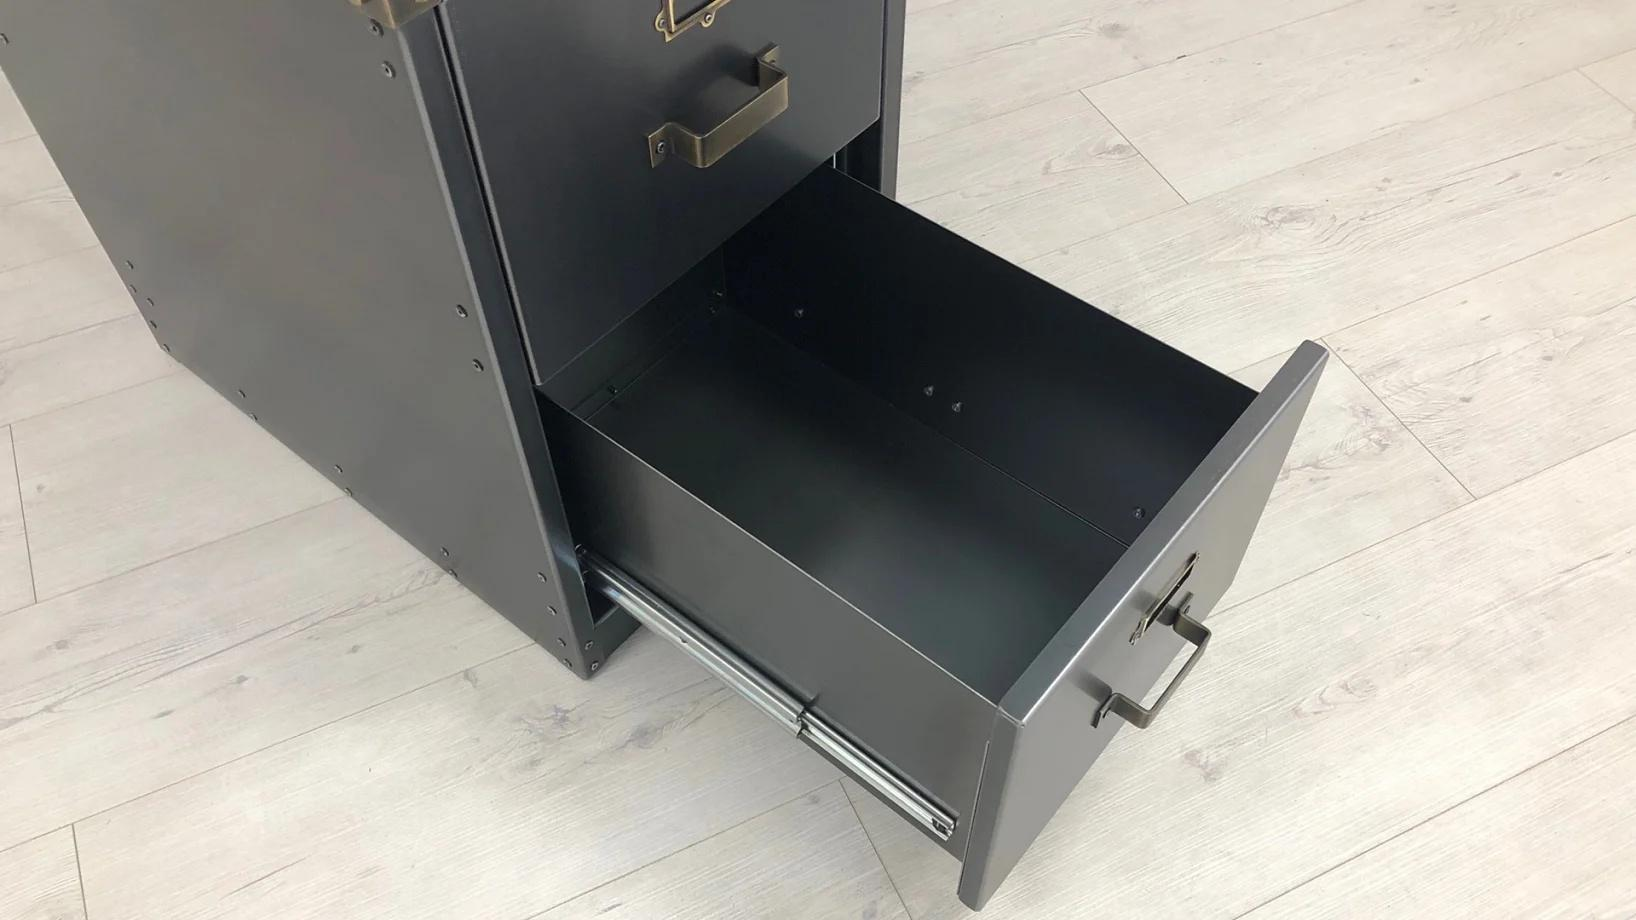Filing Cabinet: (383, 0, 1330, 919)
